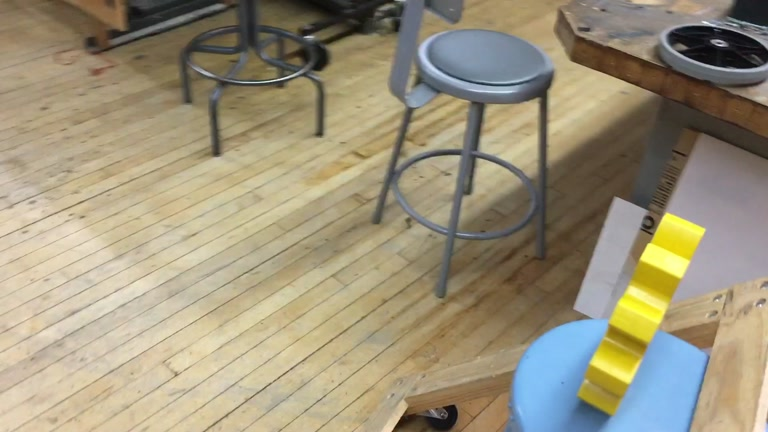gear: (578, 211, 706, 417)
